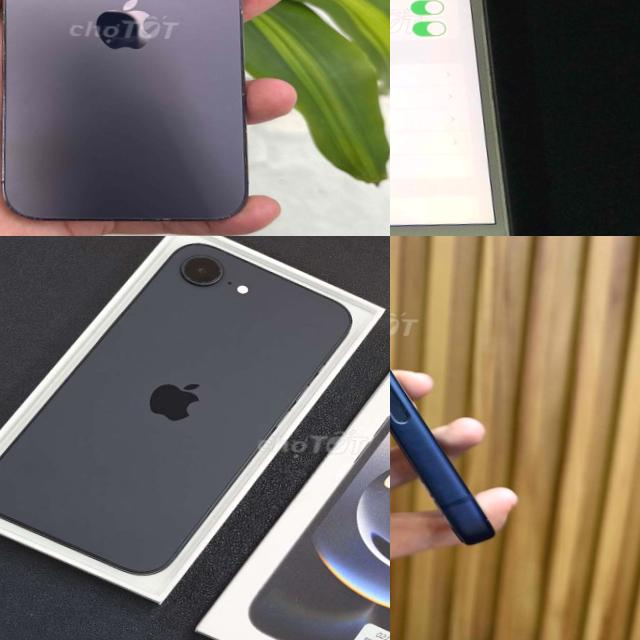gen_14: (0, 0, 270, 229)
gen_16: (0, 244, 350, 574)
gen_17: (390, 236, 524, 557)
gen_7_8: (390, 0, 541, 236)
